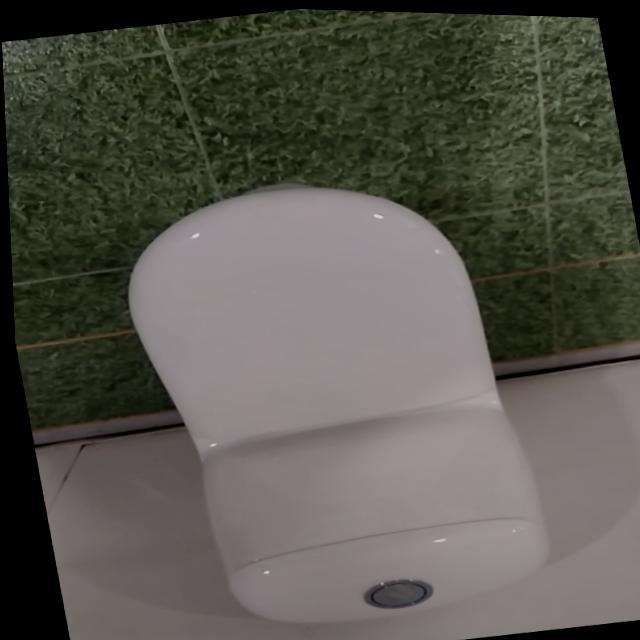toilet: (105, 150, 558, 640)
